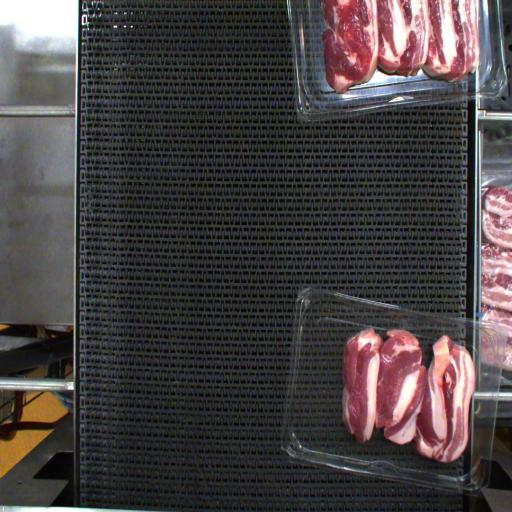twisted-meat: (415, 344, 449, 455)
